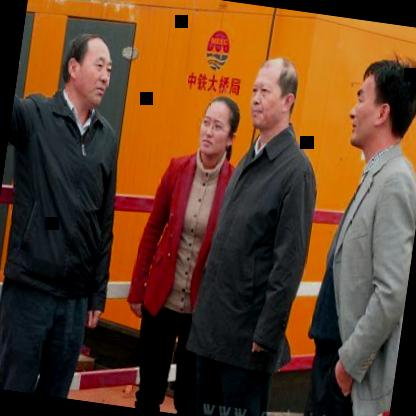head: (344, 44, 416, 160), (242, 48, 307, 146), (60, 26, 118, 110), (194, 88, 244, 171)
